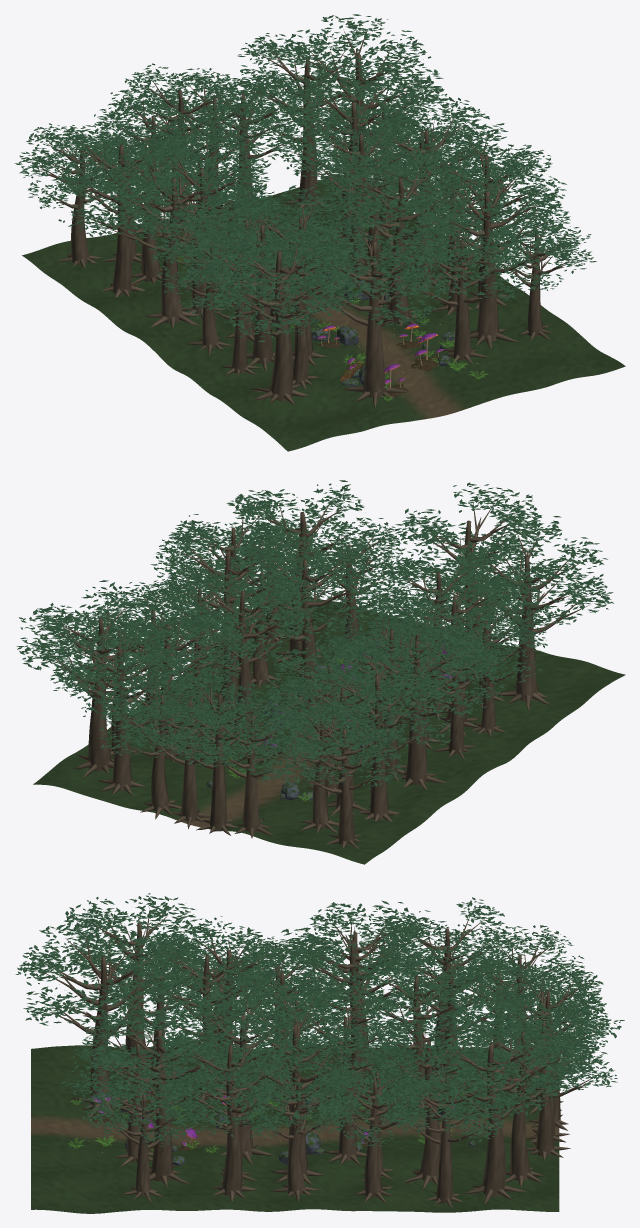
The model's file is enchanted-forest.glb.
3 views of the same model, one above another, from view 1: azimuth 30°, elevation 25°; view 2: azimuth 150°, elevation 25°; view 3: azimuth 270°, elevation 25° (orthographic).
Parts seen in each view (by area): view 1: Undulating_Forest_Floor.004, Ancient_Tree_Leaves.155, Ancient_Tree_Leaves.162, Ancient_Tree_Leaves.164, Ancient_Tree_Leaves.185, Ancient_Tree_Leaves.174, Ancient_Tree_Leaves.158, Ancient_Tree_Leaves.180, Ancient_Tree_Leaves.172, Ancient_Tree_Leaves.178, Ancient_Tree_Leaves.184, Ancient_Tree_Leaves.169 (+50 smaller); view 2: Undulating_Forest_Floor.004, Ancient_Tree_Leaves.162, Ancient_Tree_Leaves.185, Ancient_Tree_Leaves.155, Ancient_Tree_Leaves.174, Ancient_Tree_Leaves.158, Ancient_Tree_Leaves.178, Ancient_Tree_Leaves.164, Ancient_Tree_Leaves.172, Ancient_Tree_Leaves.184, Ancient_Tree_Leaves.160, Ancient_Tree_Leaves.180 (+51 smaller); view 3: Undulating_Forest_Floor.004, Ancient_Tree_Leaves.185, Ancient_Tree_Leaves.155, Ancient_Tree_Leaves.164, Ancient_Tree_Leaves.162, Ancient_Tree_Leaves.172, Ancient_Tree_Leaves.169, Ancient_Tree_Leaves.174, Ancient_Tree_Leaves.180, Ancient_Tree_Leaves.175, Ancient_Tree_Leaves.184, Ancient_Tree_Leaves.178 (+55 smaller).
Part boxes in pixels (<box>): Undulating_Forest_Floor.004: <box>22,175,625,451</box>; Ancient_Tree_Leaves.155: <box>284,205,449,326</box>; Ancient_Tree_Leaves.162: <box>206,223,370,341</box>; Ancient_Tree_Leaves.164: <box>414,150,580,271</box>; Ancient_Tree_Leaves.185: <box>273,14,454,131</box>; Ancient_Tree_Leaves.174: <box>76,138,249,248</box>; Ancient_Tree_Leaves.158: <box>324,144,473,262</box>; Ancient_Tree_Leaves.180: <box>258,63,426,170</box>; Ancient_Tree_Leaves.172: <box>342,97,504,215</box>; Ancient_Tree_Leaves.178: <box>48,118,197,233</box>; Ancient_Tree_Leaves.184: <box>235,33,389,144</box>; Ancient_Tree_Leaves.169: <box>408,123,567,232</box>; Undulating_Forest_Floor.004: <box>33,596,625,864</box>; Ancient_Tree_Leaves.162: <box>444,516,613,633</box>; Ancient_Tree_Leaves.185: <box>16,580,177,706</box>; Ancient_Tree_Leaves.155: <box>393,482,545,612</box>; Ancient_Tree_Leaves.174: <box>333,612,498,717</box>; Ancient_Tree_Leaves.158: <box>232,532,386,643</box>; Ancient_Tree_Leaves.178: <box>306,643,451,750</box>; Ancient_Tree_Leaves.164: <box>224,480,374,590</box>; Ancient_Tree_Leaves.172: <box>152,524,312,643</box>; Ancient_Tree_Leaves.184: <box>49,611,194,719</box>; Ancient_Tree_Leaves.160: <box>172,567,320,675</box>; Ancient_Tree_Leaves.180: <box>85,591,247,693</box>; Undulating_Forest_Floor.004: <box>31,1045,559,1213</box>; Ancient_Tree_Leaves.185: <box>422,1009,579,1135</box>; Ancient_Tree_Leaves.155: <box>15,918,187,1034</box>; Ancient_Tree_Leaves.164: <box>72,1001,242,1114</box>; Ancient_Tree_Leaves.162: <box>64,893,217,1006</box>; Ancient_Tree_Leaves.172: <box>220,989,375,1105</box>; Ancient_Tree_Leaves.169: <box>158,1016,304,1136</box>; Ancient_Tree_Leaves.174: <box>281,900,430,1013</box>; Ancient_Tree_Leaves.180: <box>356,1010,502,1122</box>; Ancient_Tree_Leaves.175: <box>280,909,434,1028</box>; Ancient_Tree_Leaves.184: <box>448,1003,595,1113</box>; Ancient_Tree_Leaves.178: <box>369,897,521,1010</box>.
Size of the model in its own units: 26.95 by 10.62 by 34.75.
